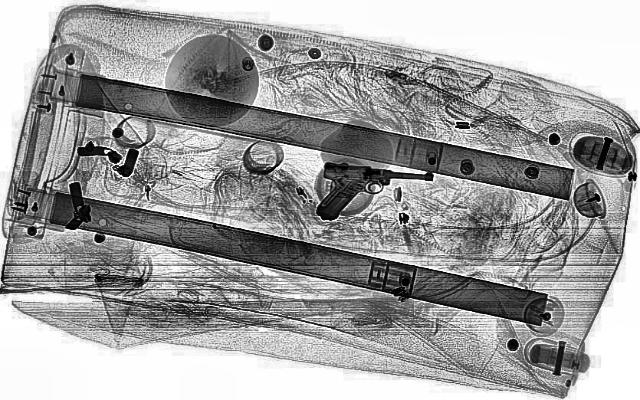Gun: (312, 164, 432, 222)
